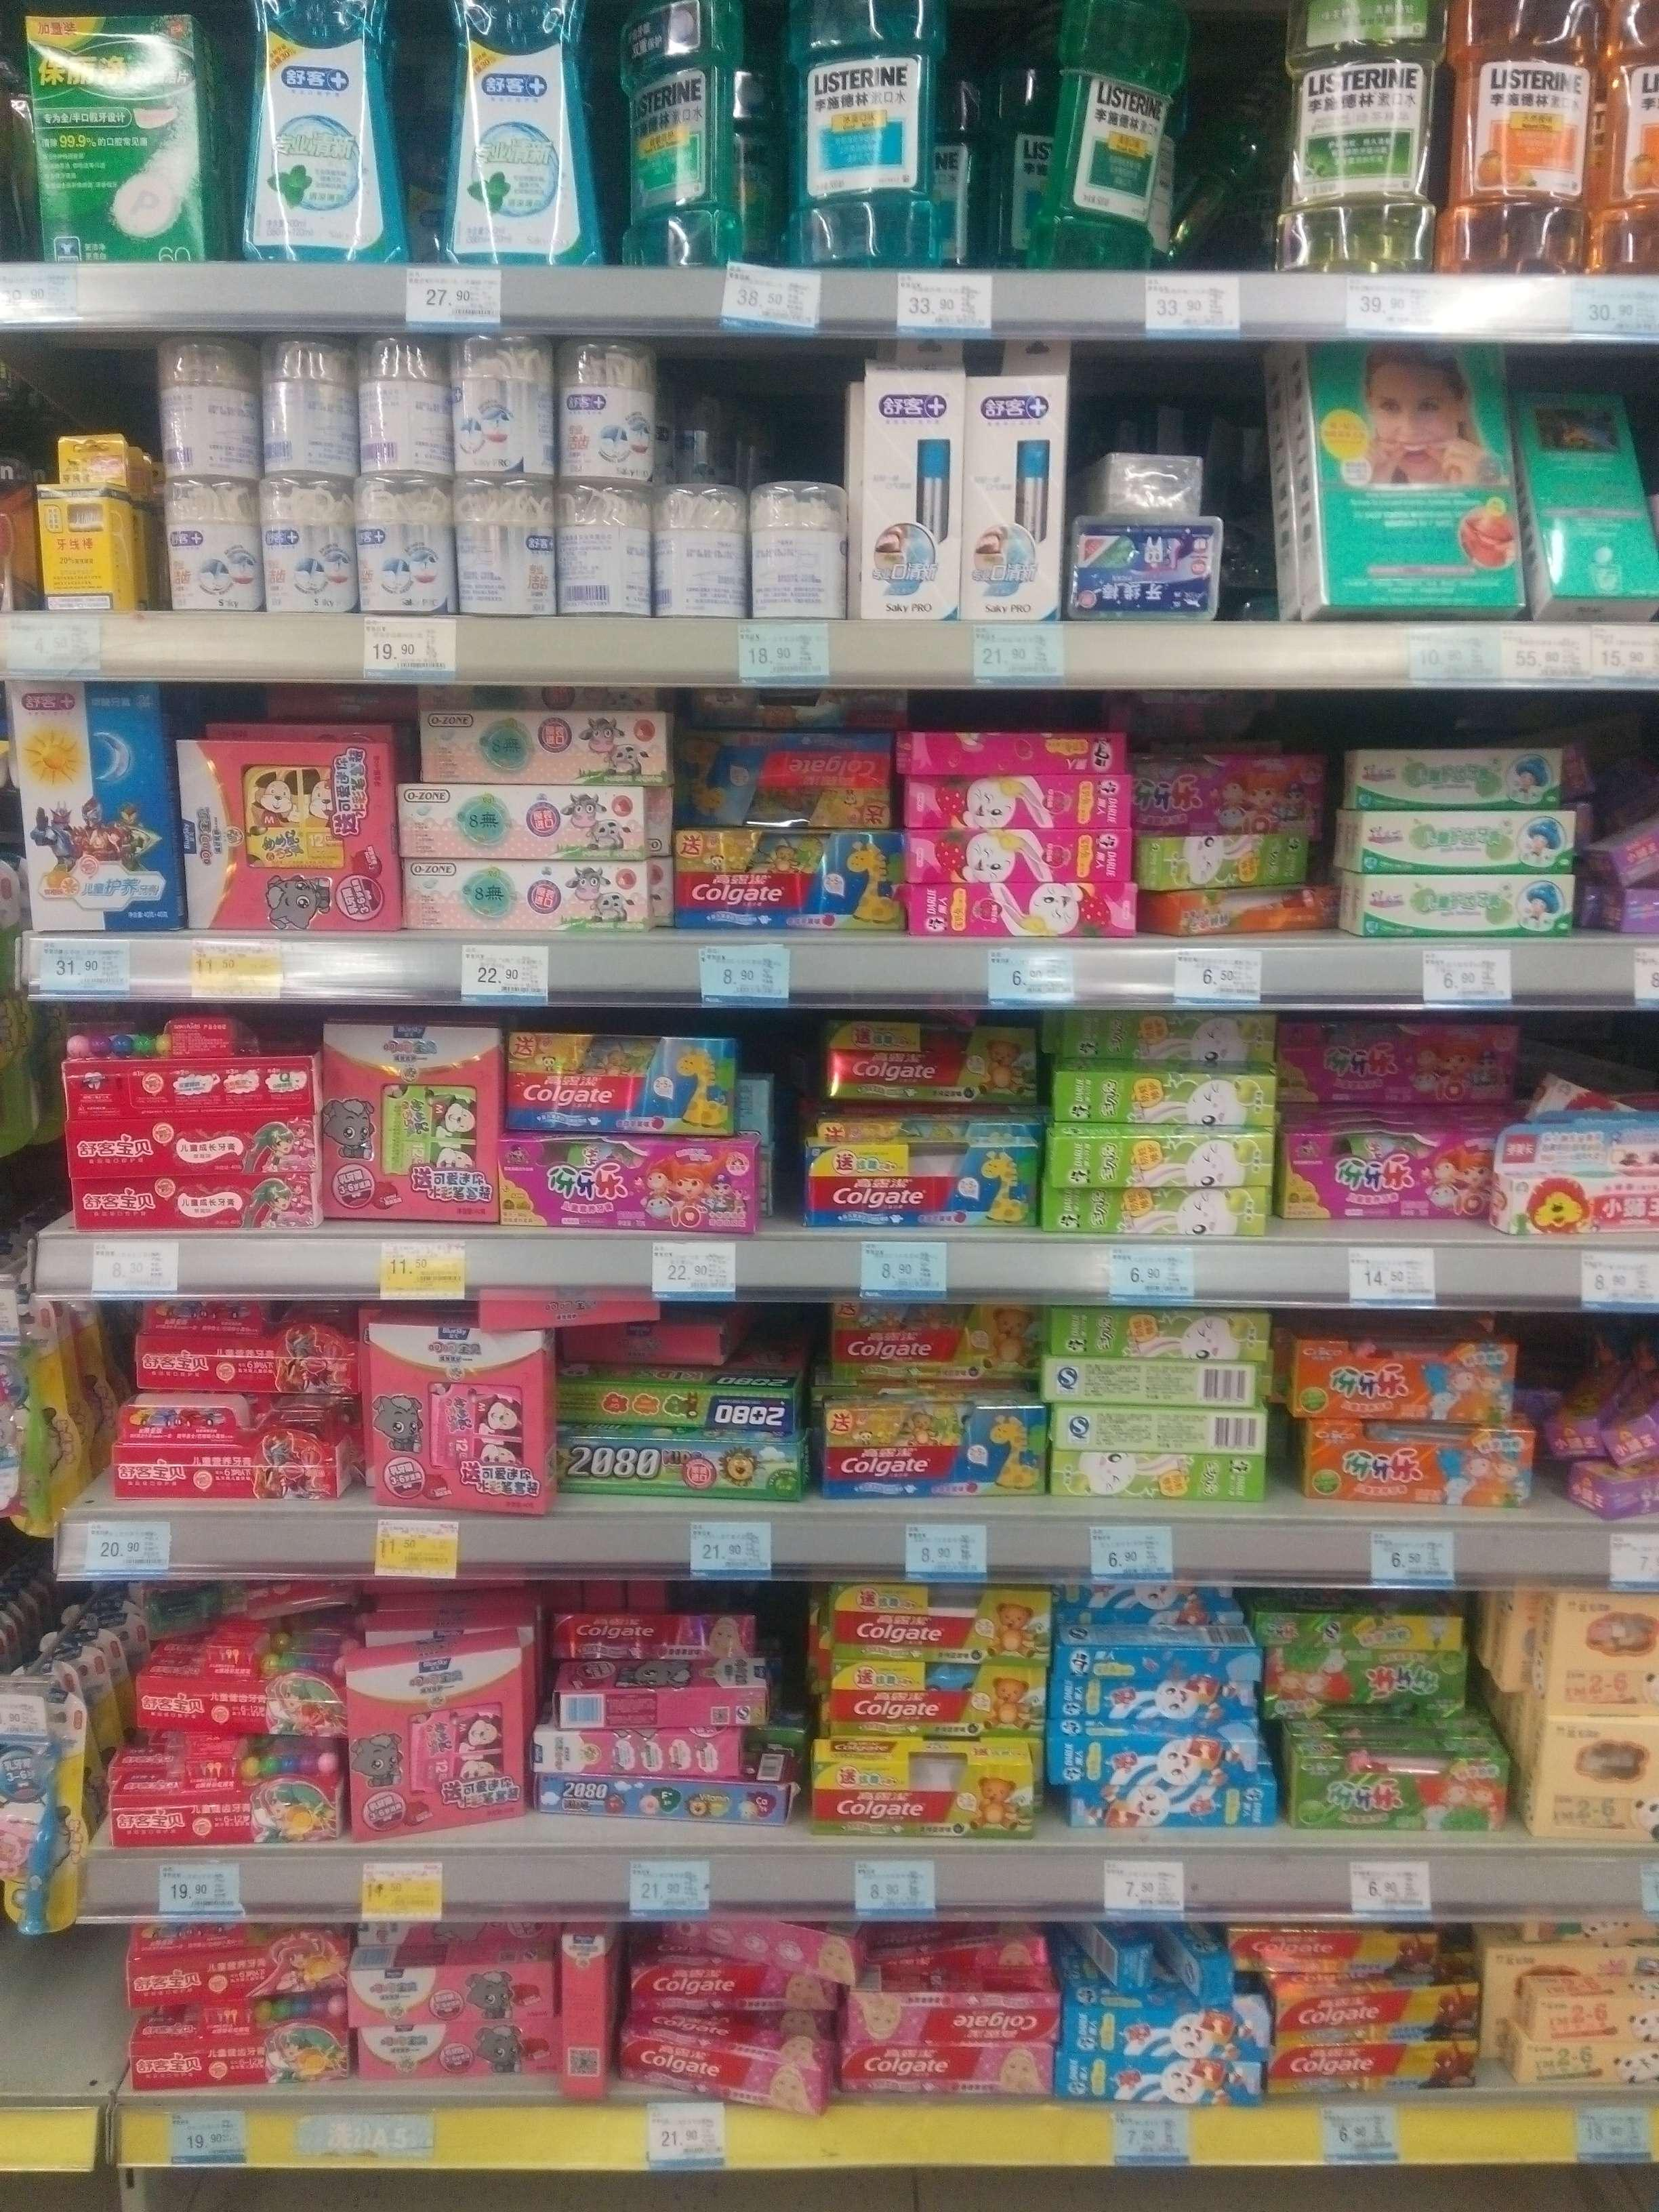misalignment: (1028, 2, 1204, 263), (640, 1914, 843, 2111), (612, 5, 749, 266), (1133, 766, 1340, 939), (350, 1641, 523, 1829), (554, 1604, 786, 1726), (1546, 1324, 1659, 1510), (1072, 1916, 1241, 1993), (1589, 782, 1659, 934), (551, 1928, 606, 2088), (1093, 441, 1201, 523), (471, 1294, 687, 1332)
